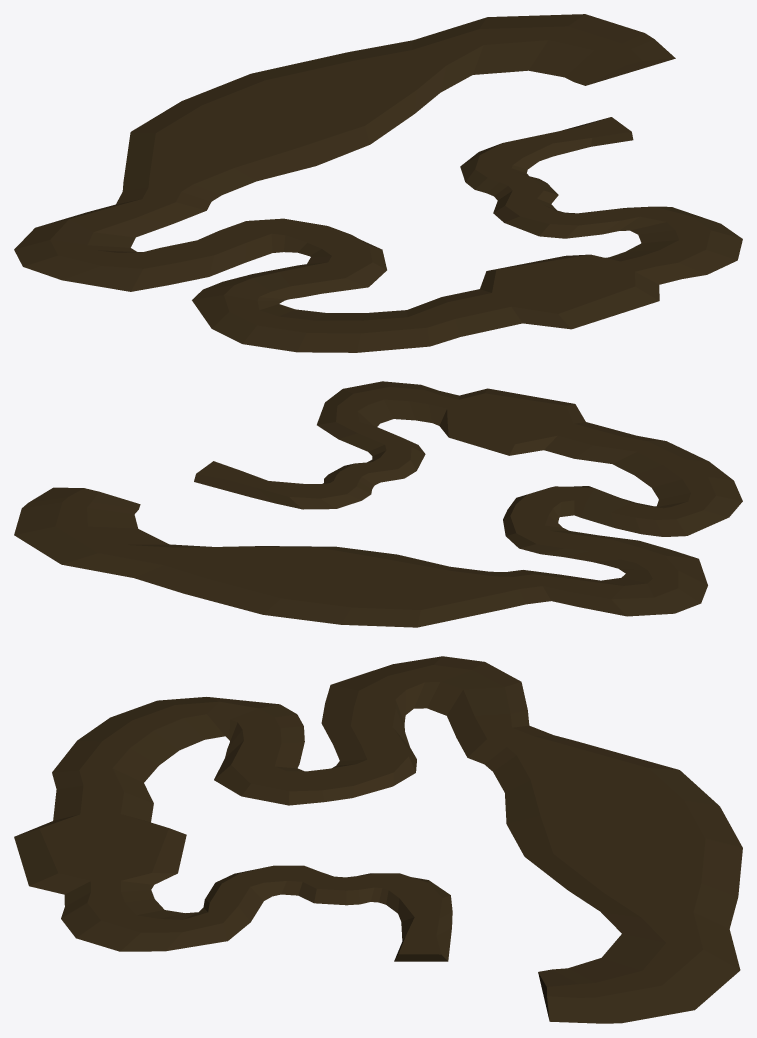
The model's file is SM_Track_Flat.fbx.
3 renders of one model, top to bottom at view 1: azimuth 30°, elevation 25°; view 2: azimuth 150°, elevation 25°; view 3: azimuth 270°, elevation 25°, orthographic. The views are drawn at different scales.
Parts seen in each view (by area): view 1: Track Flat; view 2: Track Flat; view 3: Track Flat.
Part boxes in pixels (x1=…): Track Flat: x1=14, y1=14, x2=742, y2=352; Track Flat: x1=14, y1=381, x2=742, y2=627; Track Flat: x1=14, y1=656, x2=742, y2=1023.
Size of the model in its own units: 10590 by 114 by 8877.
